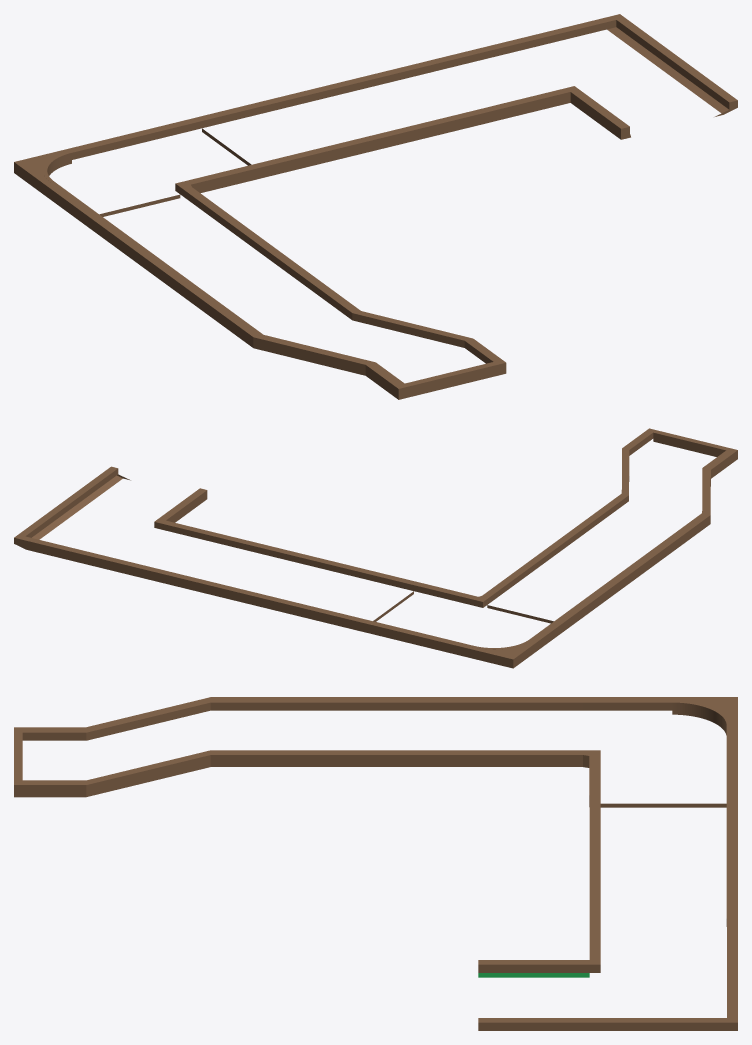
Rendered from CourseWalls2.fbx.
3 views of the same model, one above another, from view 1: azimuth 30°, elevation 25°; view 2: azimuth 150°, elevation 25°; view 3: azimuth 270°, elevation 25° (orthographic). The views are drawn at different scales.
Visible parts, largest first — view 1: Cube.020; view 2: Cube.020; view 3: Cube.020.
Boxes of the visible parts, x1,y1,x2,y2 form: Cube.020: (14,14,737,399); Cube.020: (14,428,737,668); Cube.020: (14,697,737,1030).
Bounding box in the file's own units: 1557 × 27.12 × 1463.
